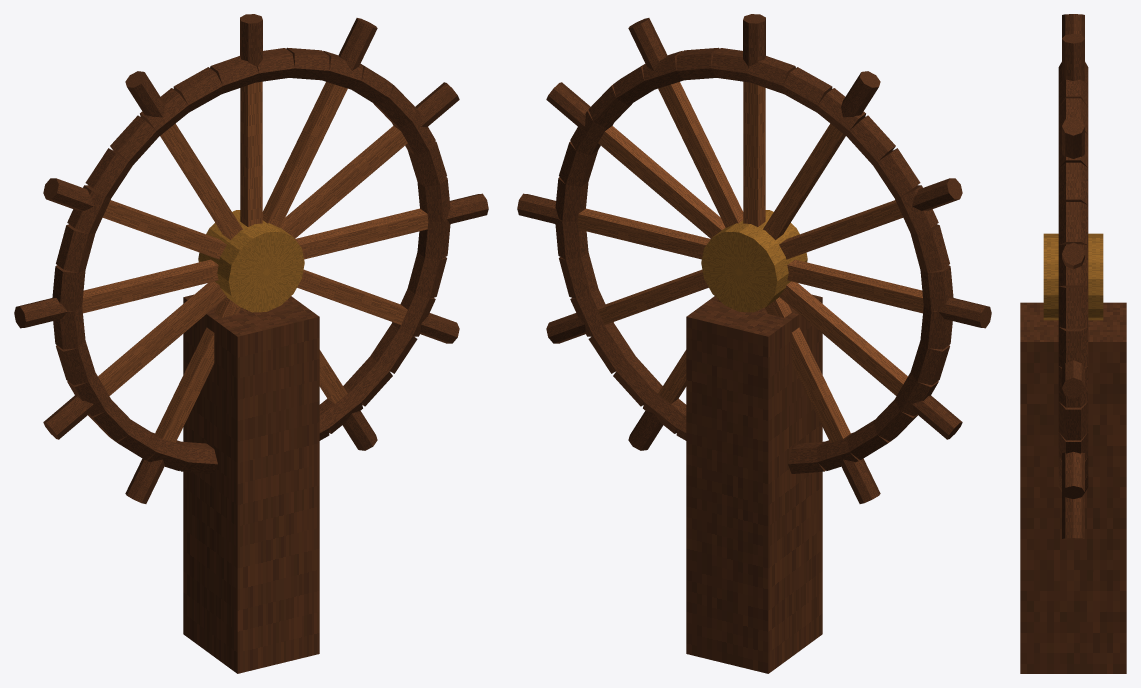
File: SM_ship_wheel.gltf
3 views of the same model, side by side, from view 1: azimuth 30°, elevation 25°; view 2: azimuth 150°, elevation 25°; view 3: azimuth 270°, elevation 25° (orthographic).
Visible parts, largest first — view 1: wheel, root; view 2: wheel, root; view 3: root, wheel.
Boxes of the visible parts, x1,y1,x2,y2 form: wheel: (14, 14, 488, 503); root: (183, 294, 319, 673); wheel: (517, 14, 991, 503); root: (686, 294, 822, 673); root: (1020, 302, 1126, 673); wheel: (1043, 14, 1103, 539).
Bounding box in the file's own units: 1.58 × 2.04 × 0.32.
3 materials, 3 textured.
